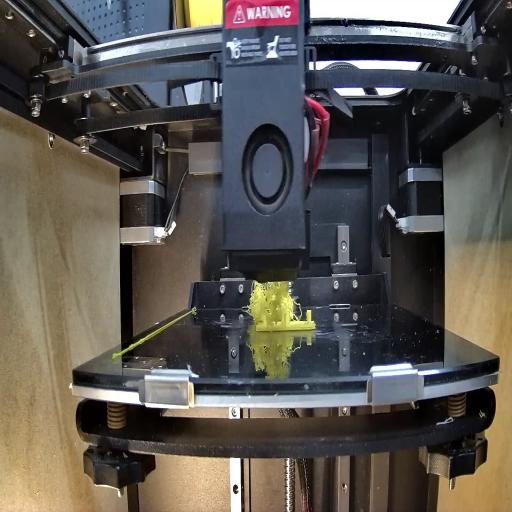spaghetti: (246, 280, 303, 322)
